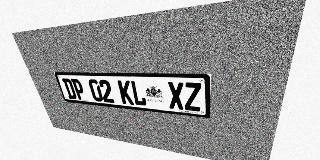0: (87, 79, 104, 102)
2: (98, 79, 115, 103)
D: (62, 78, 77, 99)
K: (117, 80, 134, 105)
L: (130, 80, 147, 106)
P: (71, 79, 86, 100)
X: (167, 82, 184, 110)
Z: (184, 82, 201, 112)
